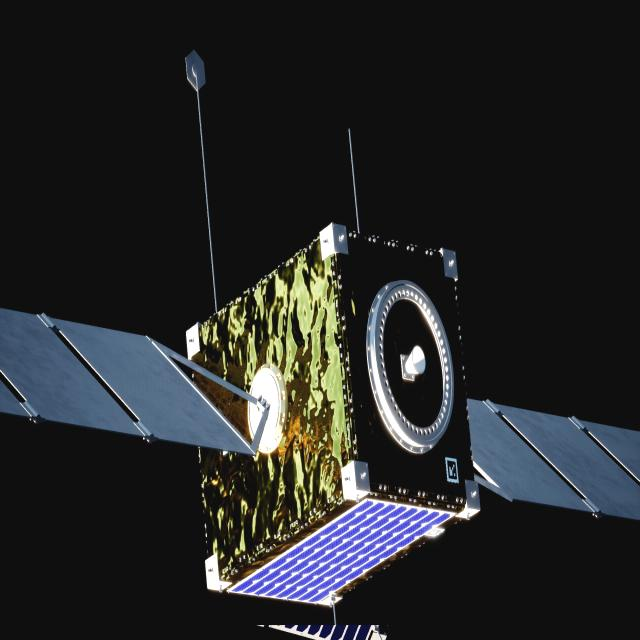satellite: (0, 224, 640, 606)
